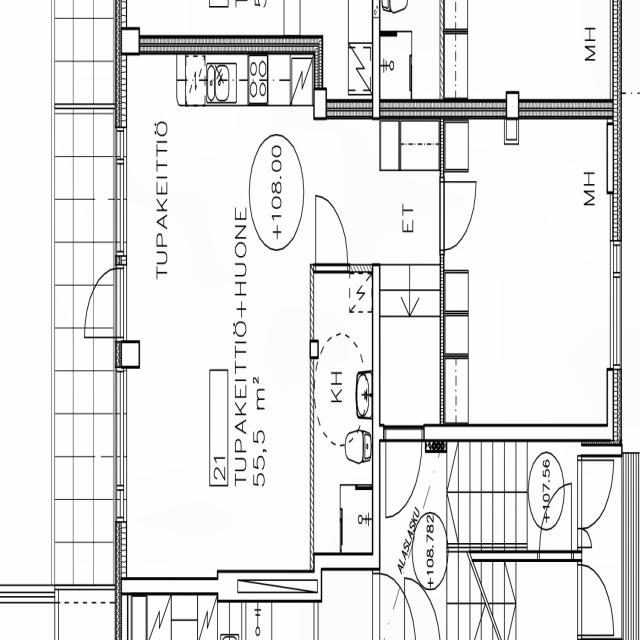Doors-dC8s: (436, 180, 450, 256), (388, 428, 422, 446), (117, 273, 126, 338), (576, 565, 583, 637), (576, 465, 581, 553), (309, 264, 351, 272), (375, 581, 379, 640)
Window: (114, 378, 130, 513), (112, 127, 126, 250), (606, 125, 622, 197)
